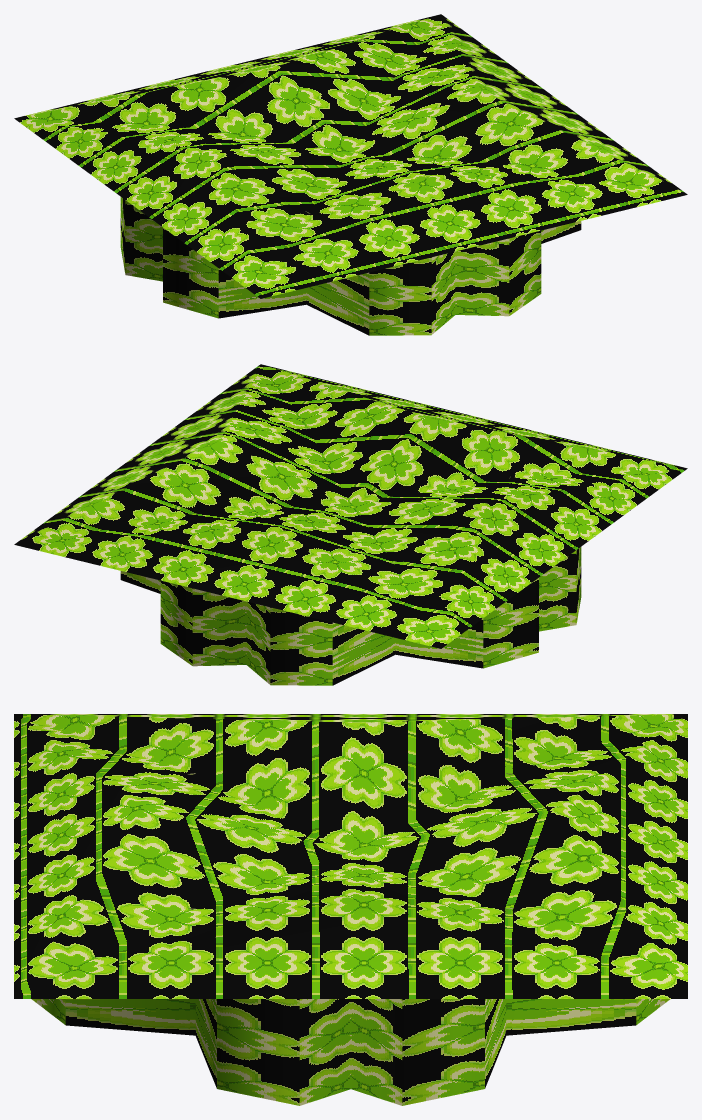
The model's file is 3858kg3_ser39.gltf.
3 views of the same model, one above another, from view 1: azimuth 30°, elevation 25°; view 2: azimuth 150°, elevation 25°; view 3: azimuth 270°, elevation 25° (orthographic). The views are drawn at different scales.
Visible parts, largest first — view 1: 3858kg3_ser39; view 2: 3858kg3_ser39; view 3: 3858kg3_ser39.
Part boxes in pixels (<box>): 3858kg3_ser39: <box>14,14,687,335</box>; 3858kg3_ser39: <box>14,364,687,685</box>; 3858kg3_ser39: <box>14,714,687,1105</box>.
Size of the model in its own units: 1.9 by 0.4924 by 1.9.
Materials: 1 (1 with a texture image).
